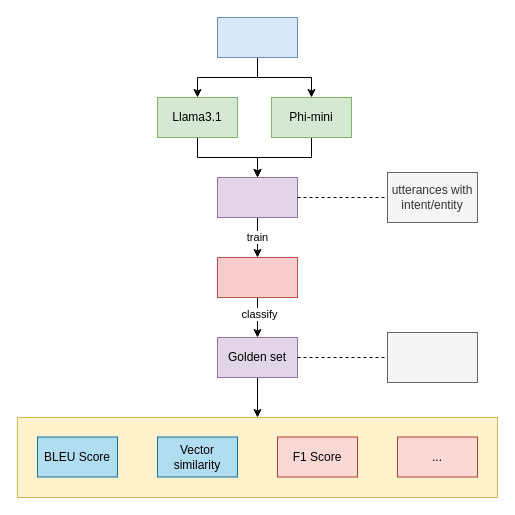
Image size: 515x515. Some labels were removed from this diagram. Here are the shapes that lost their labels. From the top down, the box of each, then its label:
(216, 16, 298, 58): Prompt
(216, 176, 298, 218): NLU training data
(216, 256, 298, 298): intent-entity-classifier
(386, 332, 478, 382): Subset of Sipgate test set
